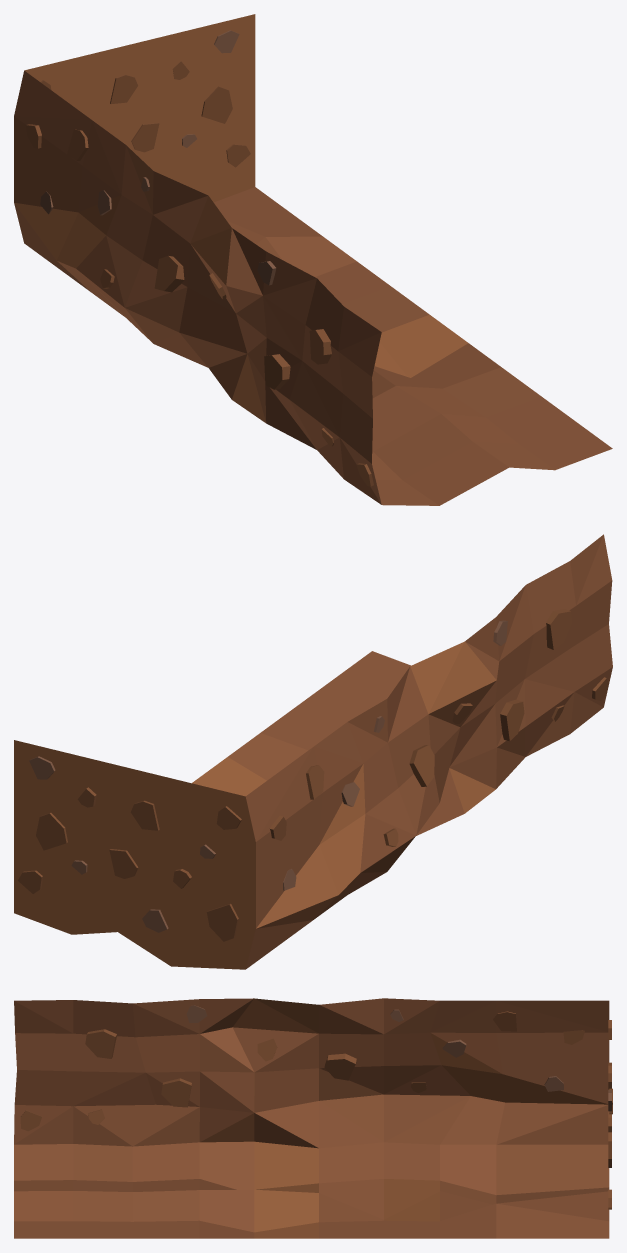
Rendered from ground_side_03.fbx.
3 views of the same model, one above another, from view 1: azimuth 30°, elevation 25°; view 2: azimuth 150°, elevation 25°; view 3: azimuth 270°, elevation 25° (orthographic). The views are drawn at different scales.
Parts seen in each view (by area): view 1: ground_side_03; view 2: ground_side_03; view 3: ground_side_03.
Part boxes in pixels (x1=…): ground_side_03: x1=14, y1=14, x2=612, y2=505; ground_side_03: x1=14, y1=534, x2=612, y2=969; ground_side_03: x1=14, y1=998, x2=612, y2=1238.
Bounding box in the file's own units: 658 × 488 × 1537.
